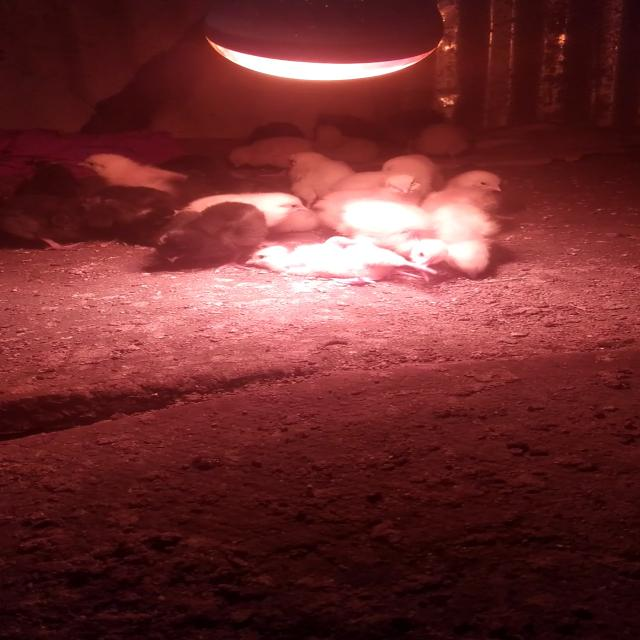chick: (242, 238, 438, 290), (155, 202, 269, 274), (338, 200, 450, 272), (66, 186, 181, 247), (76, 153, 199, 208), (317, 175, 438, 226), (175, 193, 308, 237), (431, 198, 502, 278), (0, 193, 91, 251), (416, 169, 503, 227), (312, 118, 407, 164), (226, 136, 325, 180), (286, 153, 361, 207), (404, 121, 473, 163), (377, 152, 442, 193)
